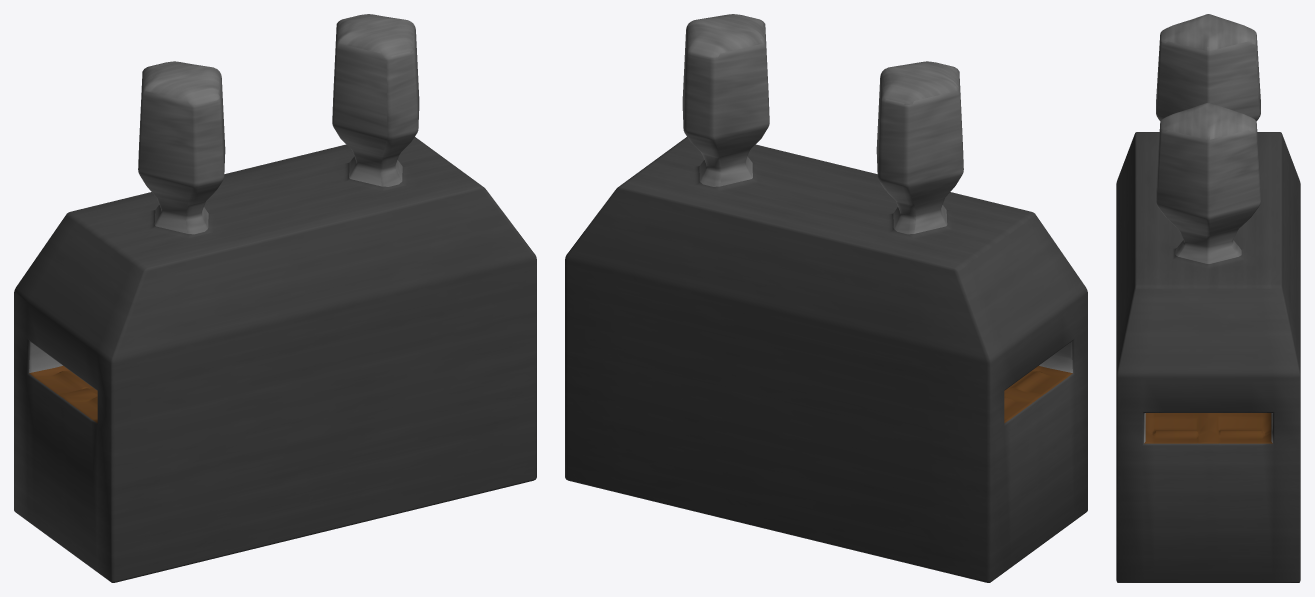
File: FM-002-MoldingMachine.fbx
3 renders of one model, left to right at view 1: azimuth 30°, elevation 25°; view 2: azimuth 150°, elevation 25°; view 3: azimuth 270°, elevation 25°, orthographic. The views are drawn at different scales.
Parts seen in each view (by area): view 1: FM-002-MoldingMachine; view 2: FM-002-MoldingMachine; view 3: FM-002-MoldingMachine.
Part boxes in pixels (x1=…): FM-002-MoldingMachine: x1=14, y1=14, x2=536, y2=582; FM-002-MoldingMachine: x1=565, y1=14, x2=1087, y2=582; FM-002-MoldingMachine: x1=1116, y1=14, x2=1300, y2=582.
Bounding box in the file's own units: 300 × 120 × 300.
